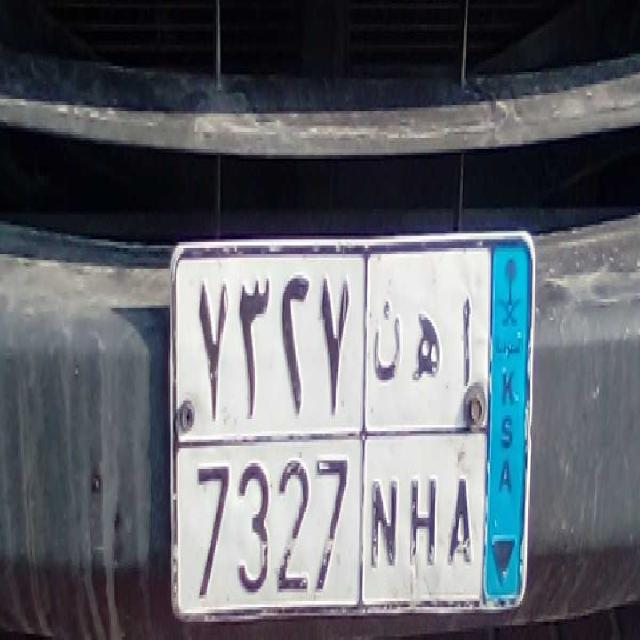license_plate: (176, 436, 484, 610)
